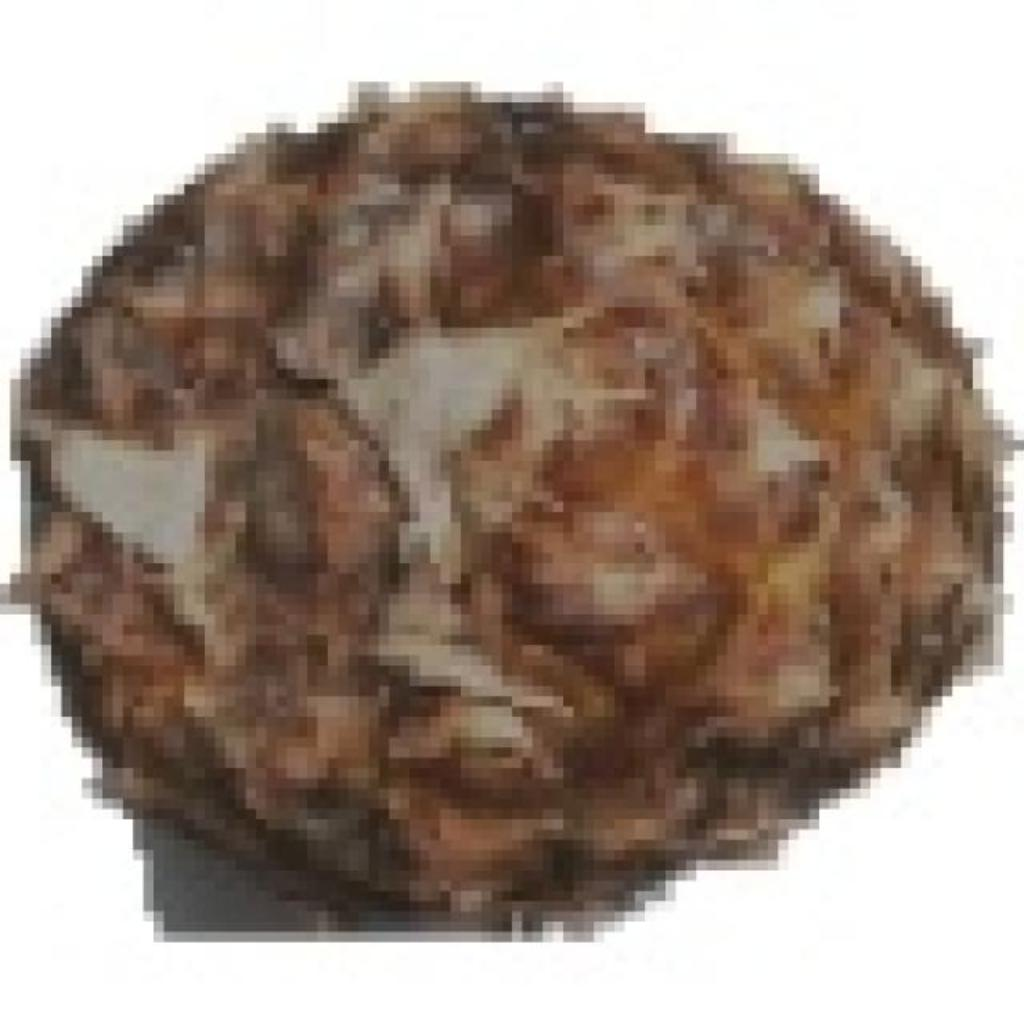pineapple: (31, 82, 1014, 901)
